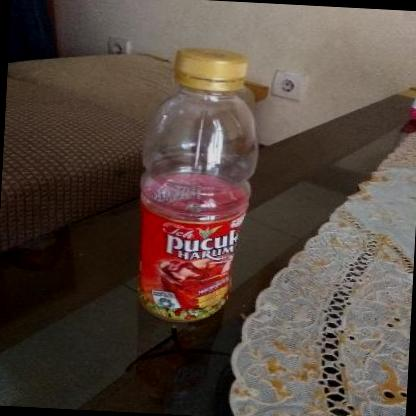plastic_bottles: (128, 44, 268, 332)
